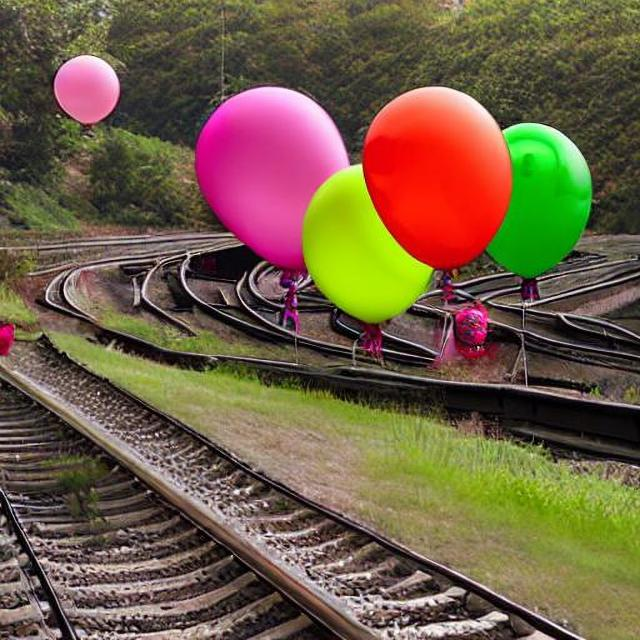balloon: (224, 86, 587, 330), (50, 52, 120, 122)
